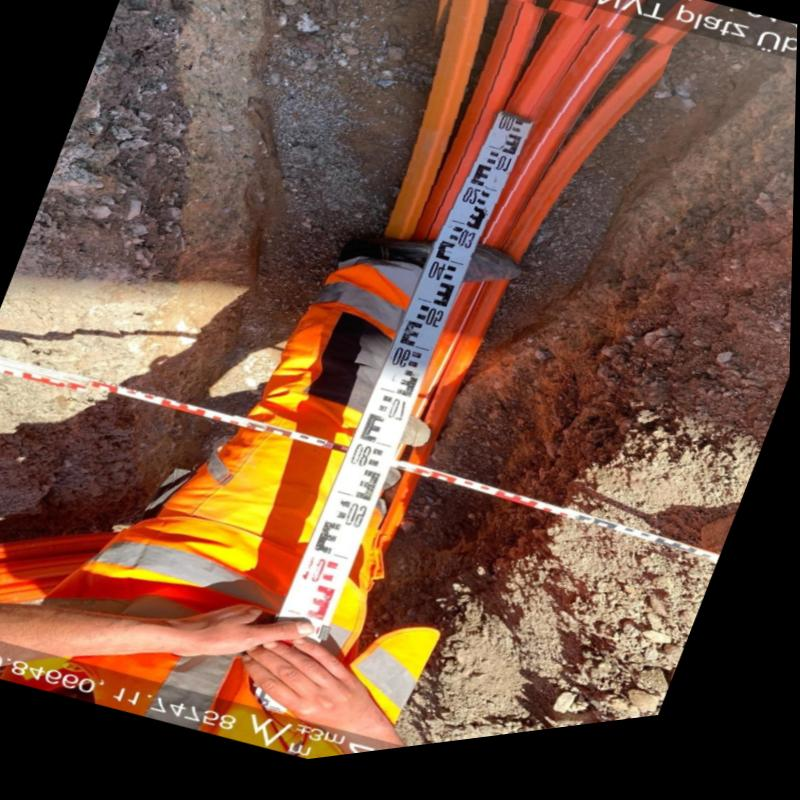Orang-Speednetrohrchen: (385, 0, 673, 269)
